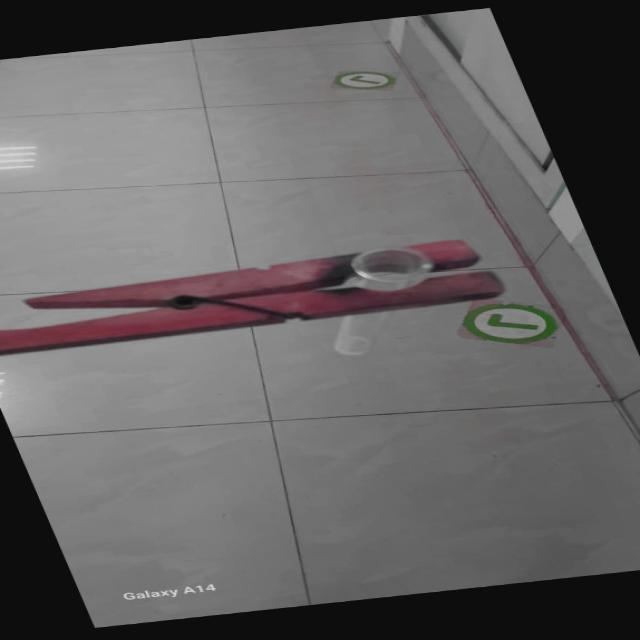Test Tube Holder: (0, 231, 541, 354)
